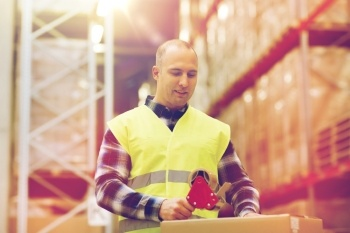person with partial safety: (94, 39, 262, 233)
safety vest: (106, 106, 229, 233)
